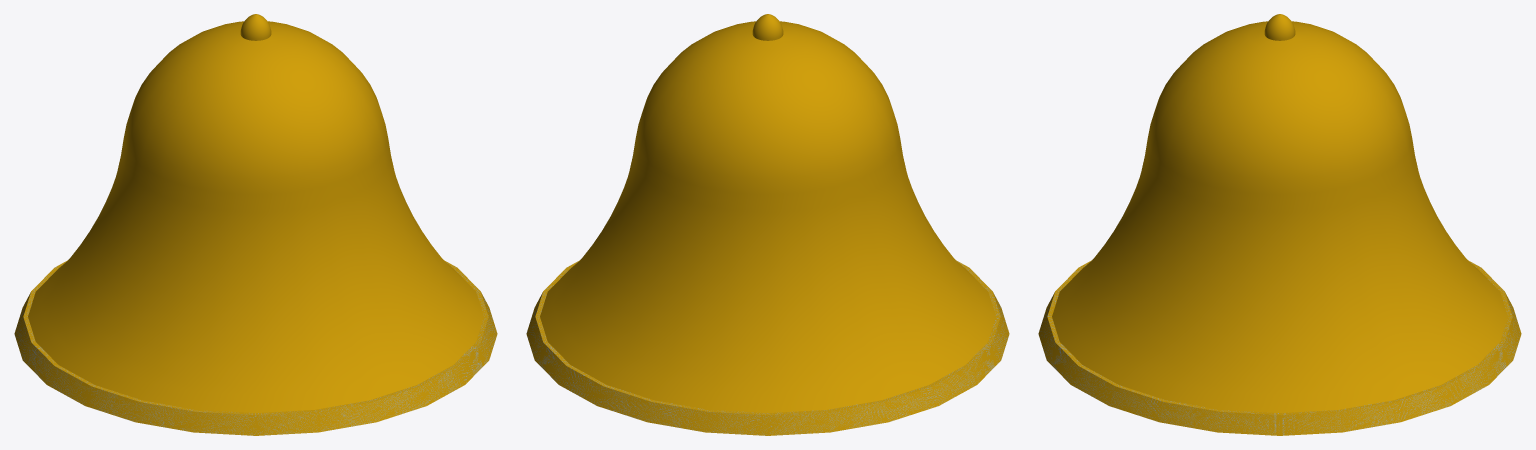
Rendered from modelCampana.dae.
3 renders of one model, left to right at view 1: azimuth 30°, elevation 25°; view 2: azimuth 150°, elevation 25°; view 3: azimuth 270°, elevation 25°, orthographic.
Visible parts, largest first — view 1: group_0 (×2); view 2: group_0 (×2); view 3: group_0 (×2).
Part boxes in pixels (left/top/right/bottom): group_0 (×2): left=14, top=14, right=497, bottom=435; group_0 (×2): left=526, top=14, right=1009, bottom=435; group_0 (×2): left=1038, top=14, right=1521, bottom=435.
Size of the model in its own units: 40.94 by 40.94 by 29.9.
